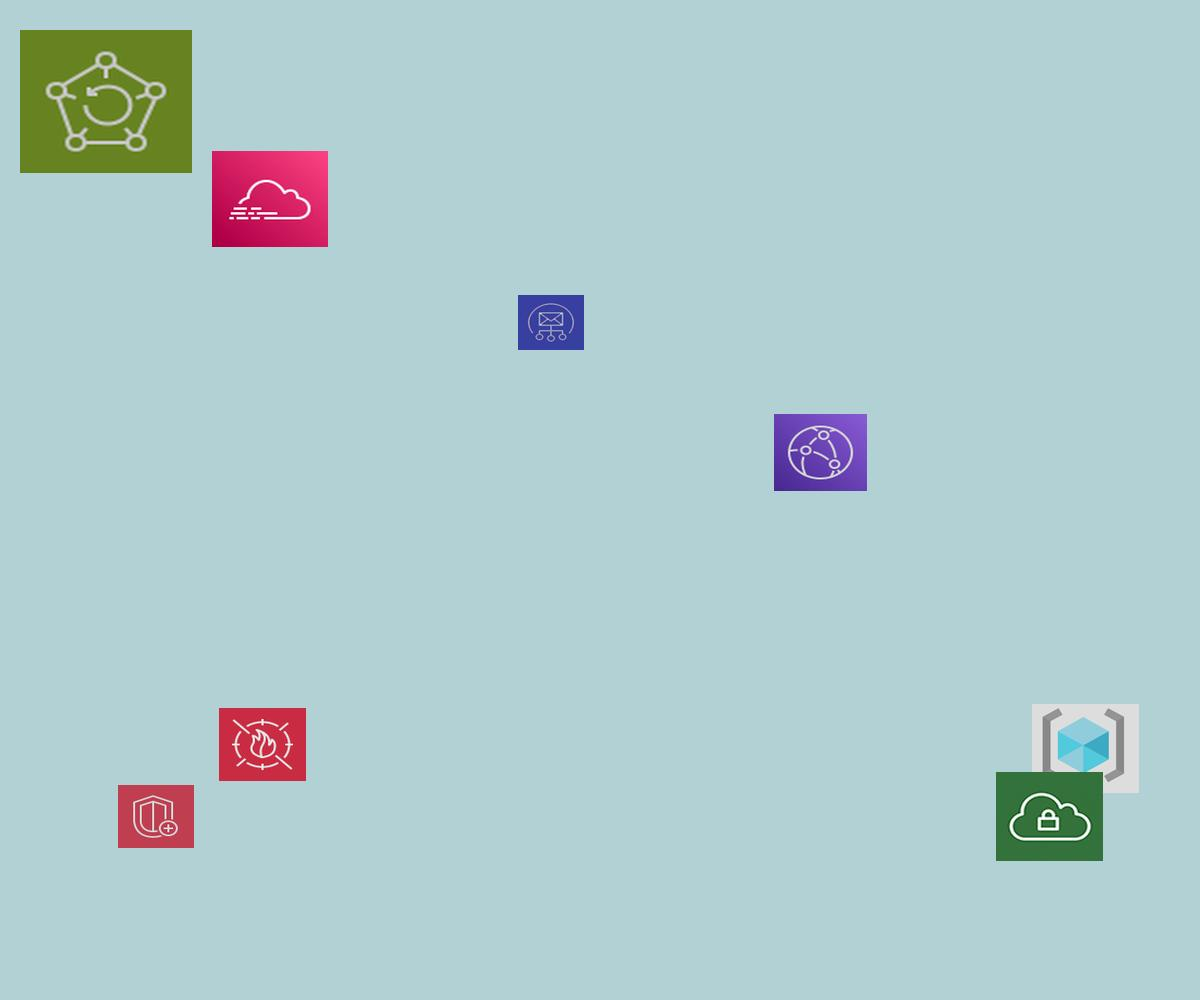AWS-Backup: (20, 30, 192, 173)
AWS-CloudFront: (774, 414, 867, 491)
AWS-CloudTrail: (212, 151, 328, 247)
AWS-Private_vpc: (996, 772, 1103, 861)
AWS-Shield: (118, 785, 194, 848)
AWS-Simple-Email-Service: (518, 295, 584, 350)
AWS-WAF: (219, 708, 306, 781)
Azure_resource_group: (1032, 704, 1139, 793)
